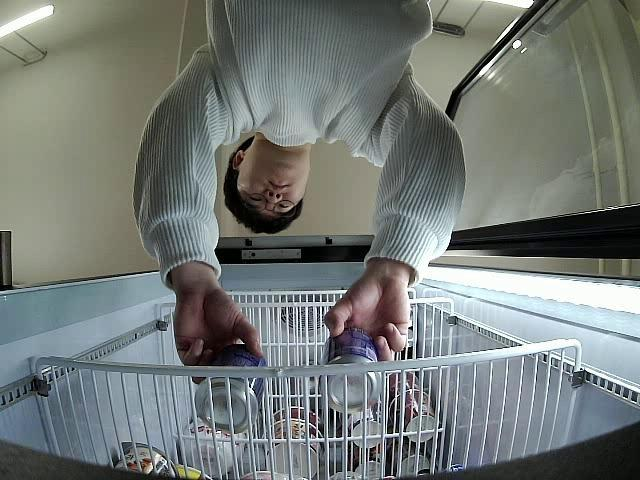14_welchsGrape: (192, 348, 268, 435), (319, 326, 383, 412)
